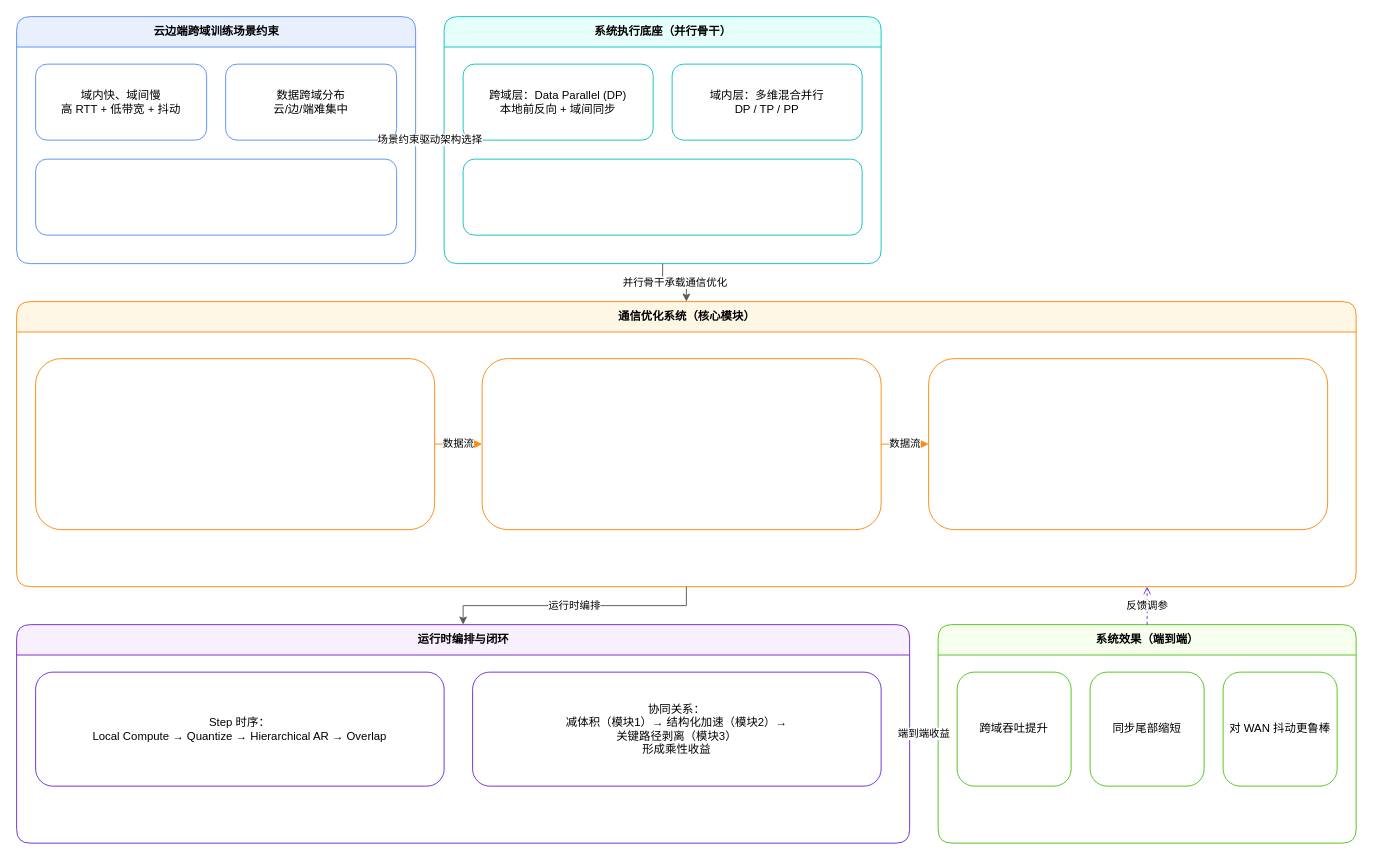
This 1373x860 diagram has some shape labels left out. The centre of each missing label's shape, as x and y in pixels:
模块 1：低比特量化通信（第3章） 输入：梯度/参数张量 机制：1-bit/低比特 + 误差补偿 作用：先降通信体积: (x=235, y=444)
模块 2：分层集合通信流水化（第4章） 输入：量化后张量 机制：域内聚合-域间同步-域内分发 + 分块/流水/双流并发 作用：再提链路利用率: (x=681, y=444)
模块 3：计算-通信掩盖（第5章） 输入：分层同步任务 机制：前缀触发 + 异步 All-Reduce + 预测/误差修正 作用：最后削减同步尾部: (x=1128, y=444)
算力异构分布 云 GPU + 边缘节点 + 端侧设备: (x=216, y=196)
语义约束：每迭代一次跨域同步 稳定收敛 + 工程可落地: (x=662, y=196)
